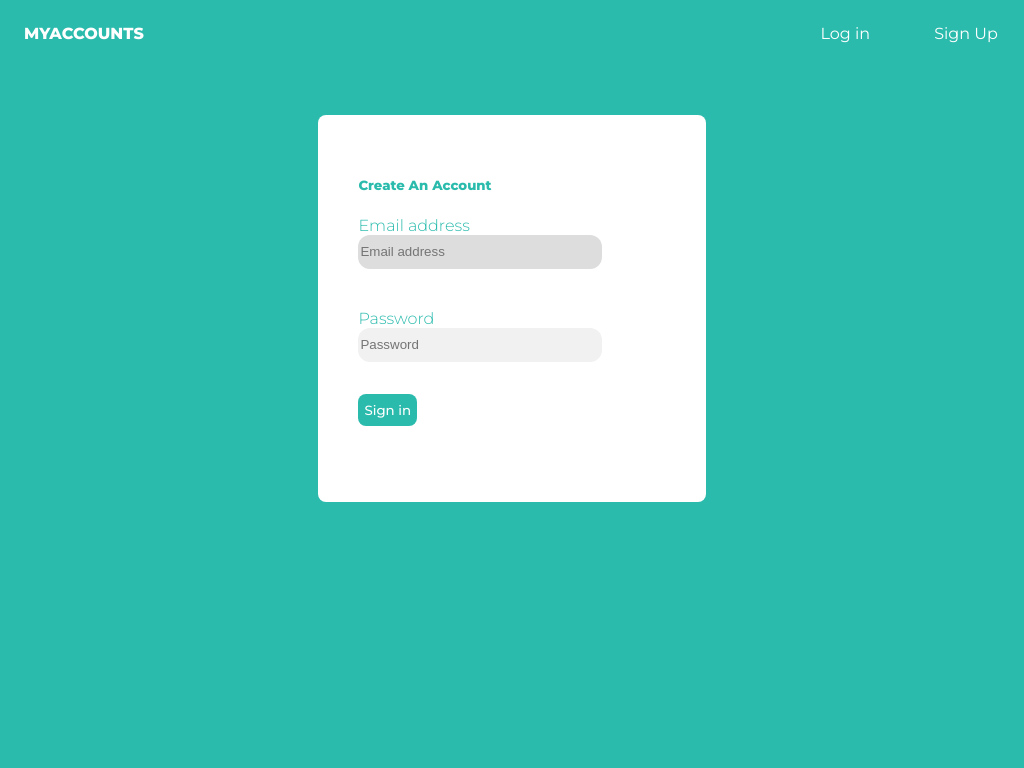
Test case: check if error message on login without filling any field  works
The width and height of the screenshot is (1024, 768).
Step 1. Click the button "Sign in" → (388, 410), box [358, 394, 417, 426]
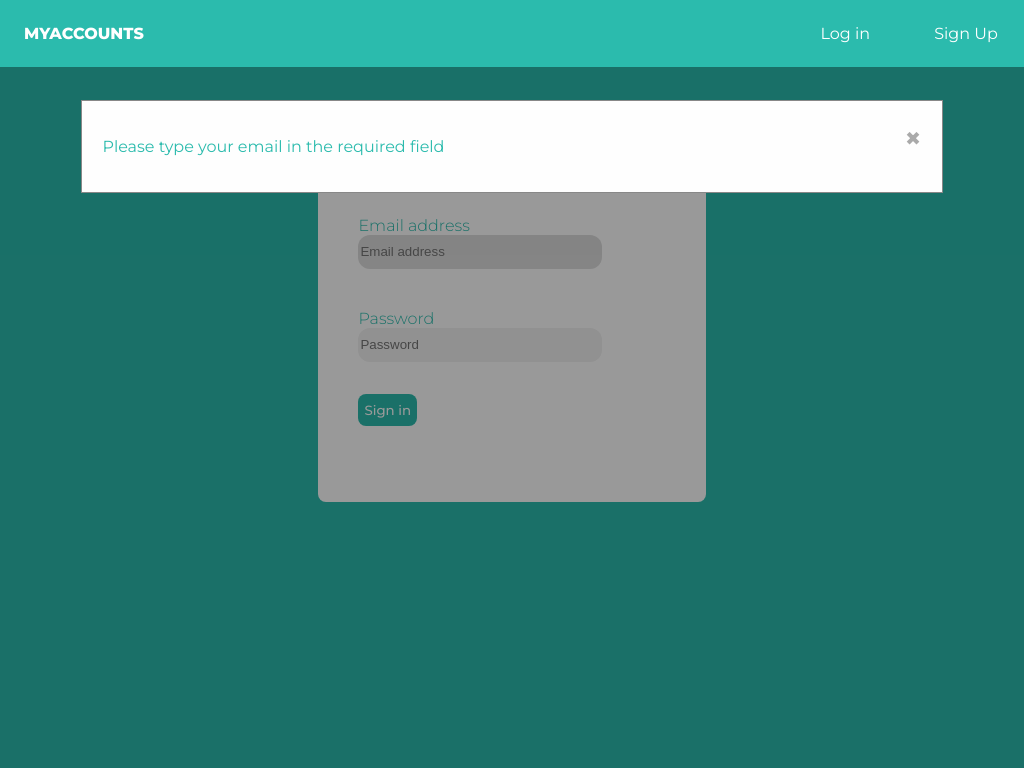
Now the text "Please type your email in the required field" is shown, box [102, 137, 444, 156]
